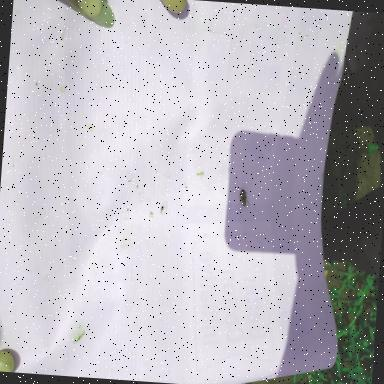pbw: (195, 170, 203, 180)
